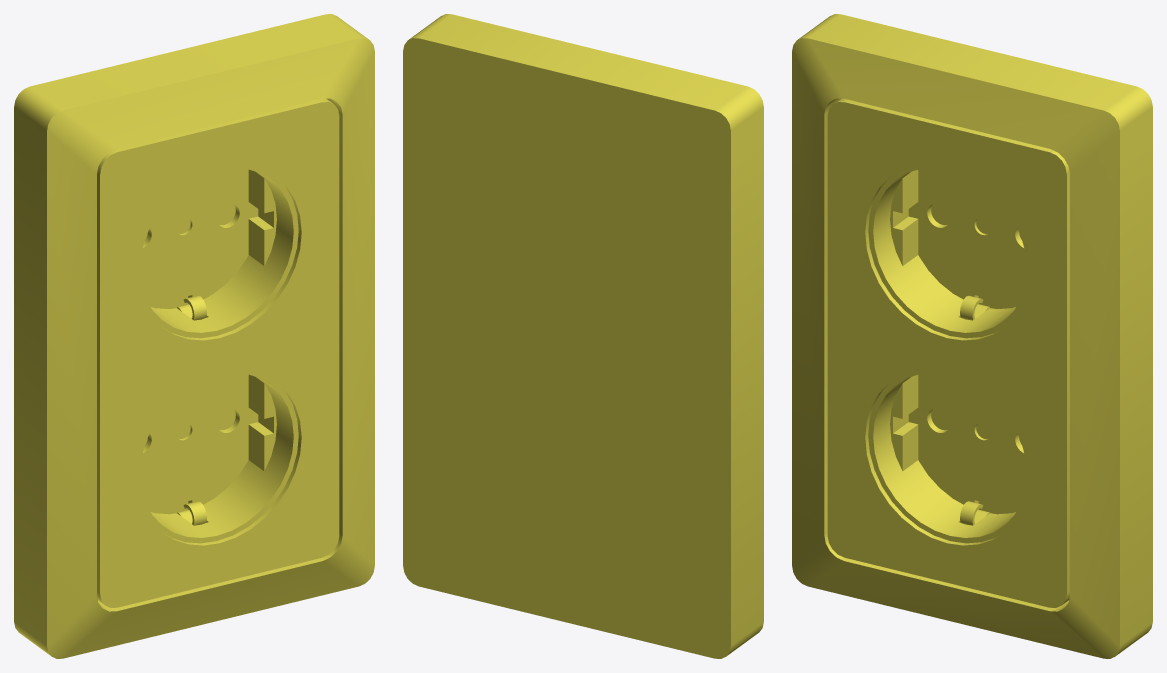
Rendered from Socket02.fbx.
3 renders of one model, left to right at view 1: azimuth 30°, elevation 25°; view 2: azimuth 150°, elevation 25°; view 3: azimuth 330°, elevation 25°, orthographic.
Parts seen in each view (by area): view 1: Socket02; view 2: Socket02; view 3: Socket02.
Part boxes in pixels (x1=…): Socket02: x1=14, y1=14, x2=374, y2=658; Socket02: x1=403, y1=14, x2=763, y2=658; Socket02: x1=792, y1=14, x2=1152, y2=658.
Size of the model in its own units: 8 by 12.78 by 1.77.
